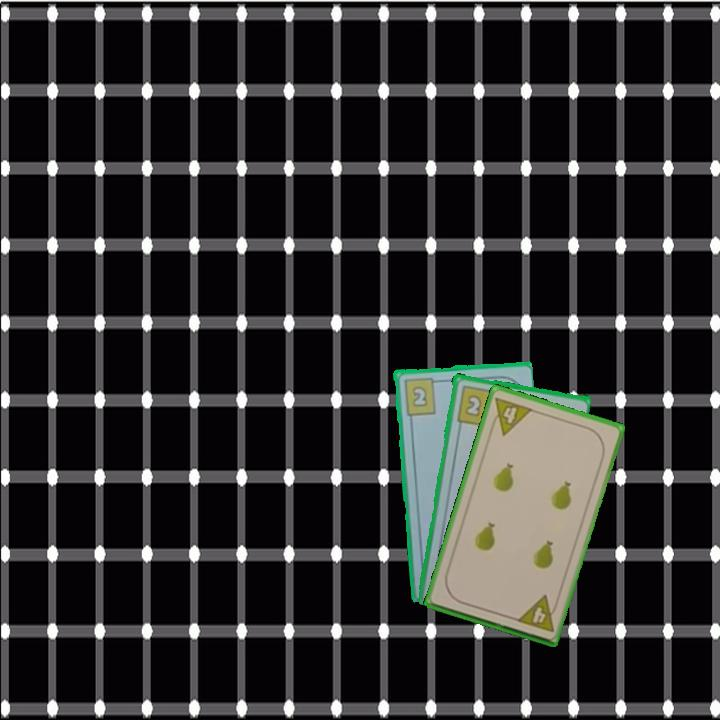2b: (453, 382, 500, 428), (400, 374, 442, 418)
4p: (486, 393, 535, 438), (513, 592, 561, 635)
